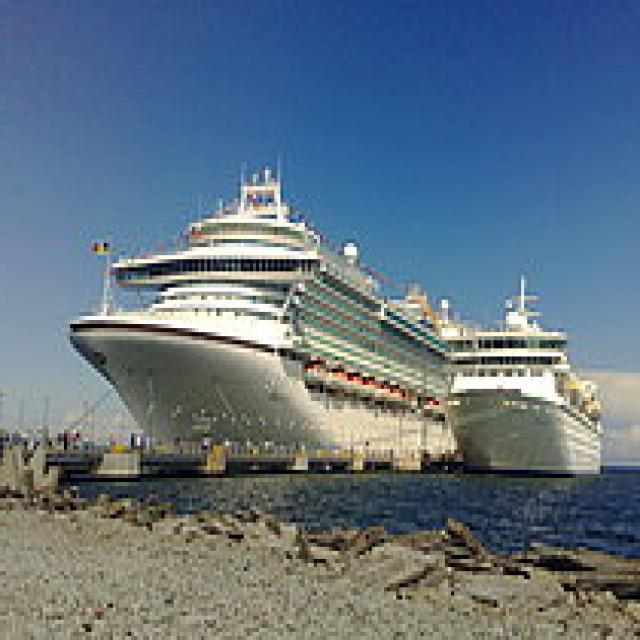Cruise: (67, 146, 457, 458), (442, 271, 609, 474)
